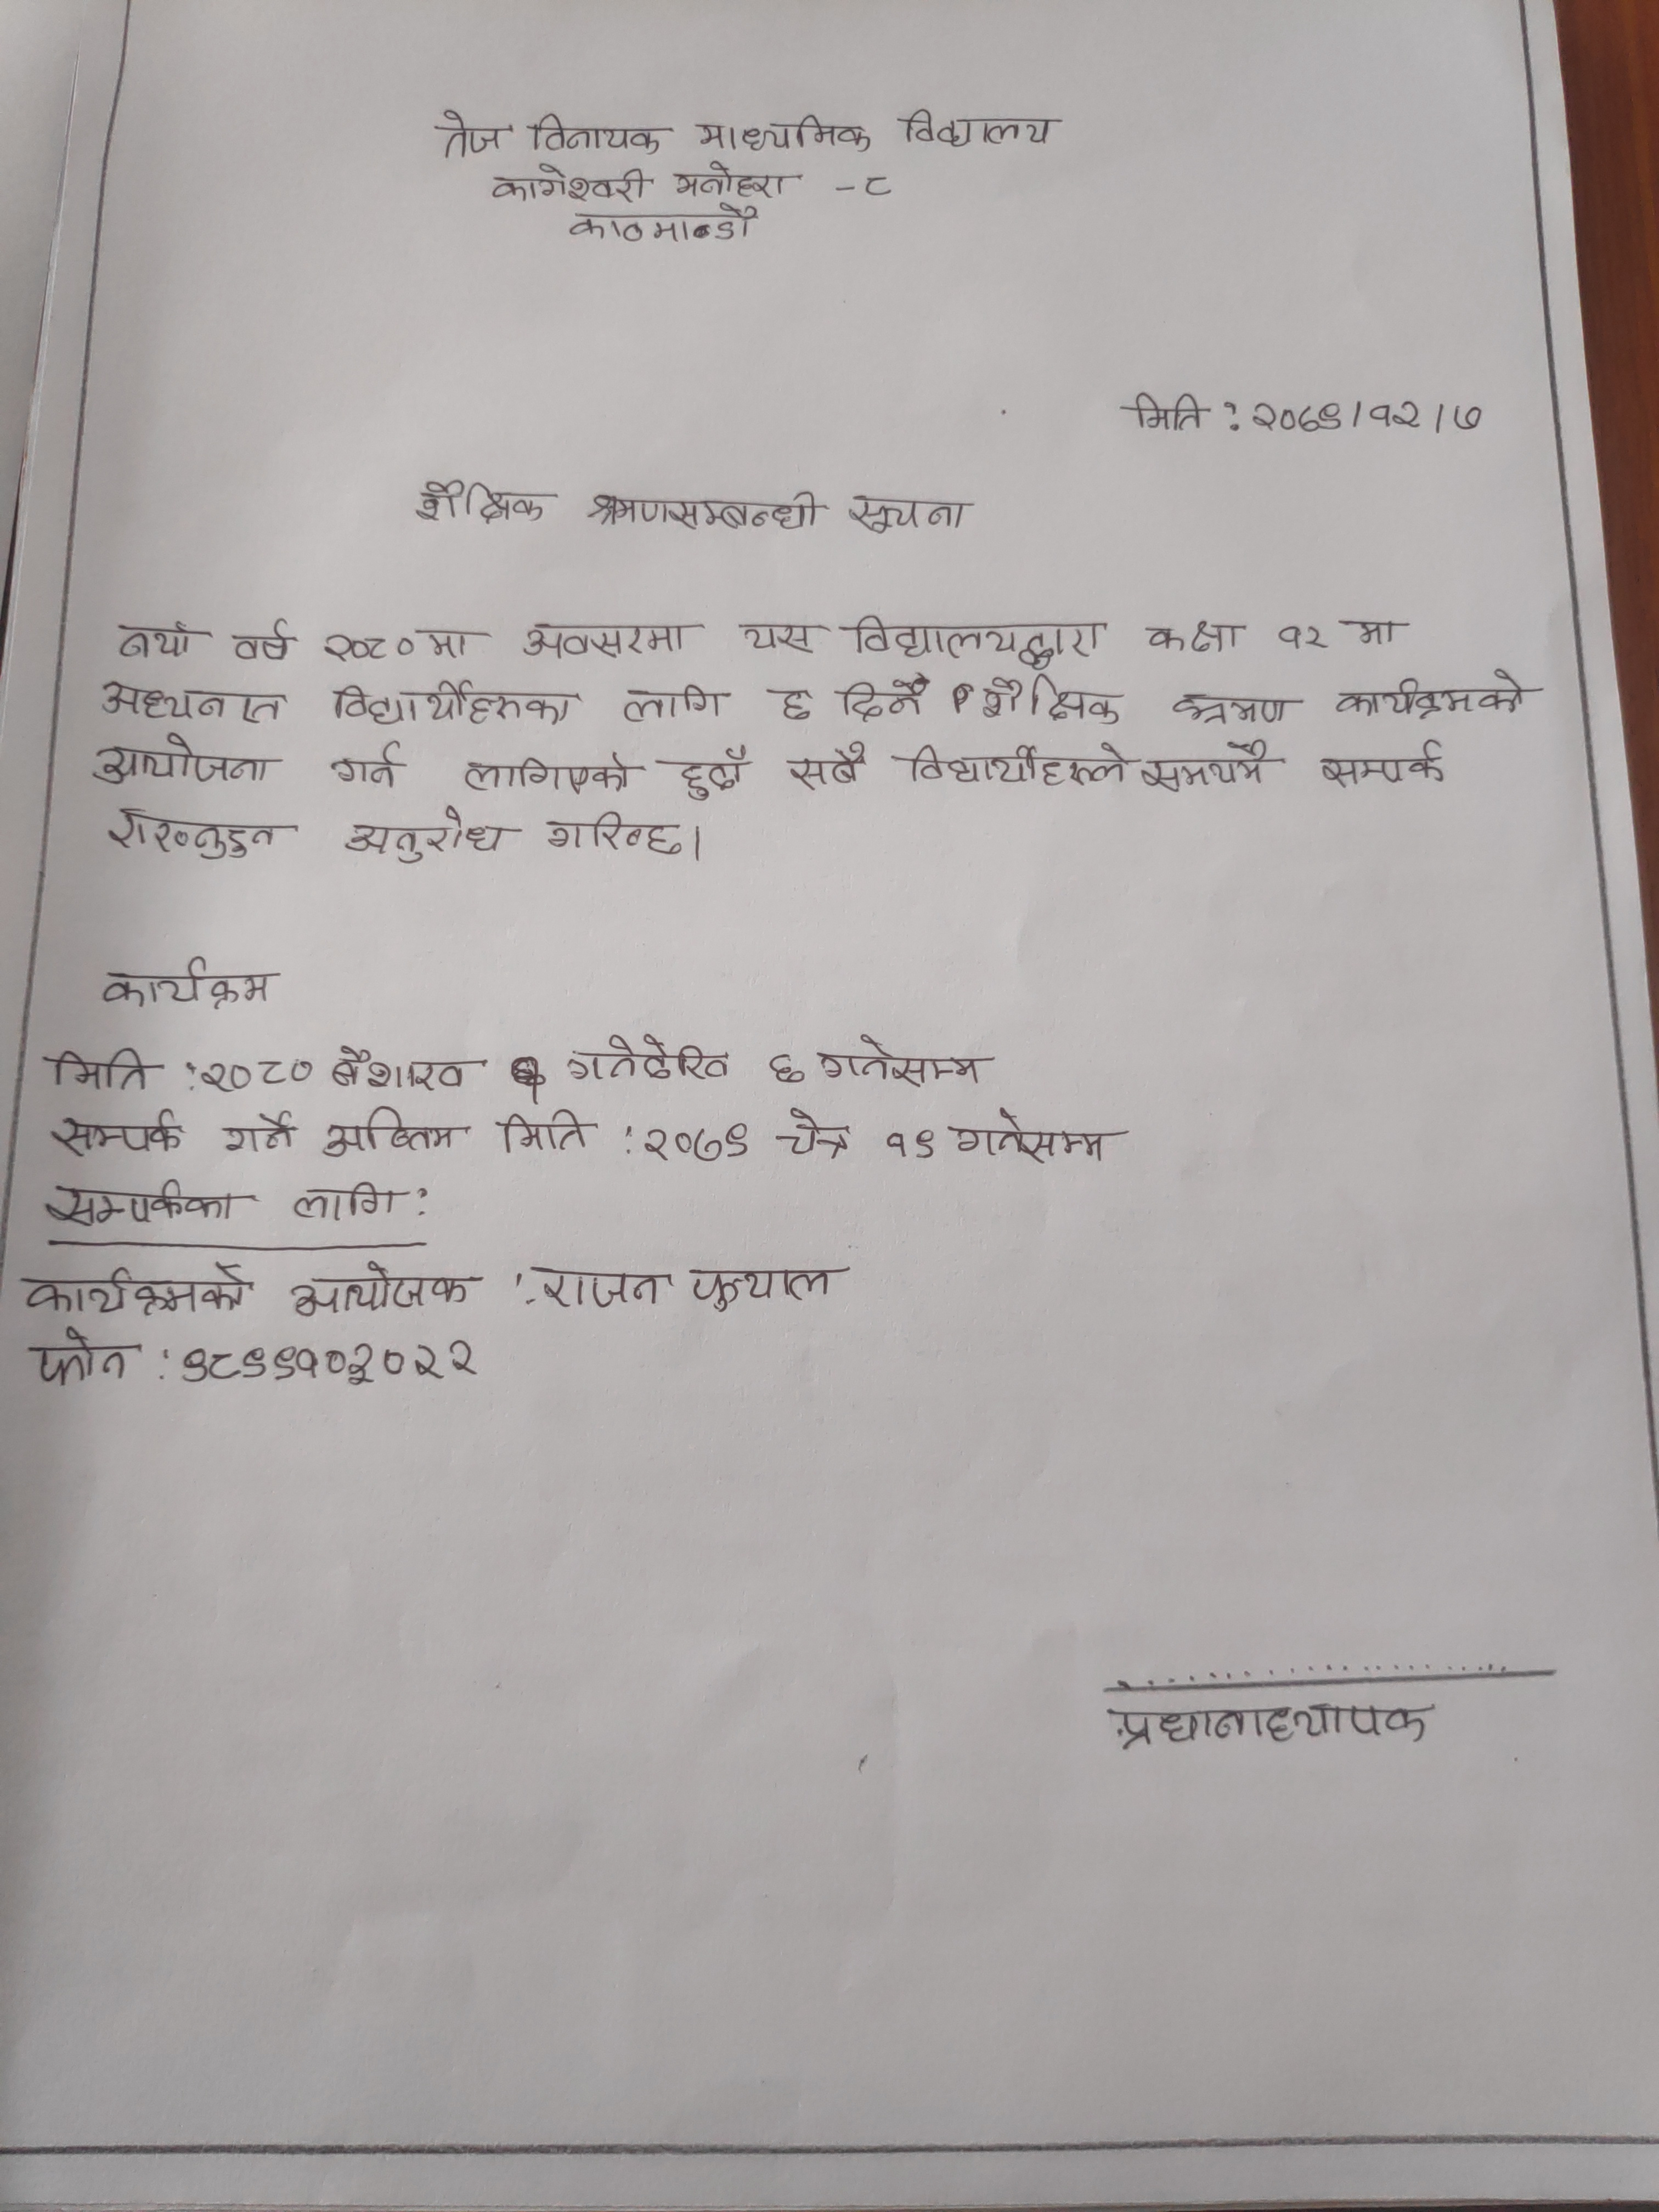text: (1096, 1695, 1434, 1752), (178, 1332, 481, 1390), (847, 608, 1105, 669), (17, 1258, 258, 1322), (331, 671, 580, 730), (587, 482, 824, 536), (899, 738, 1133, 791), (282, 1259, 479, 1320), (40, 1174, 240, 1233), (1249, 394, 1485, 441), (812, 1029, 988, 1092), (87, 732, 270, 791), (1331, 669, 1534, 721), (101, 805, 286, 860), (558, 1029, 730, 1089), (342, 803, 507, 864), (92, 958, 279, 1012), (948, 1106, 1115, 1165), (96, 676, 284, 728), (457, 747, 640, 798), (681, 1258, 842, 1313), (317, 1099, 464, 1160), (978, 671, 1127, 730), (49, 1106, 192, 1167), (694, 110, 875, 157), (516, 611, 690, 660), (1134, 737, 1274, 796), (566, 200, 763, 242), (28, 1324, 141, 1395), (538, 806, 685, 859), (328, 1042, 469, 1096), (1314, 737, 1452, 791), (415, 475, 544, 533), (479, 160, 648, 204), (532, 1261, 666, 1313), (1164, 681, 1302, 730), (640, 1115, 753, 1174), (528, 108, 664, 157), (903, 108, 1051, 152), (282, 1176, 410, 1224), (845, 489, 967, 540), (617, 679, 732, 730), (662, 740, 755, 803), (491, 1101, 589, 1160), (44, 1045, 150, 1096), (322, 737, 410, 792), (1141, 611, 1241, 660), (674, 162, 795, 202), (195, 1055, 315, 1096), (772, 1109, 856, 1167), (836, 674, 927, 726), (321, 622, 416, 671), (782, 740, 866, 794), (1122, 385, 1206, 435), (220, 1109, 300, 1160), (432, 106, 509, 158), (113, 615, 197, 662), (735, 618, 814, 660), (878, 1116, 943, 1167), (1342, 610, 1413, 653), (230, 617, 291, 665), (765, 678, 819, 730), (423, 620, 479, 662), (1269, 615, 1326, 653), (758, 1045, 807, 1085), (864, 162, 896, 202)
